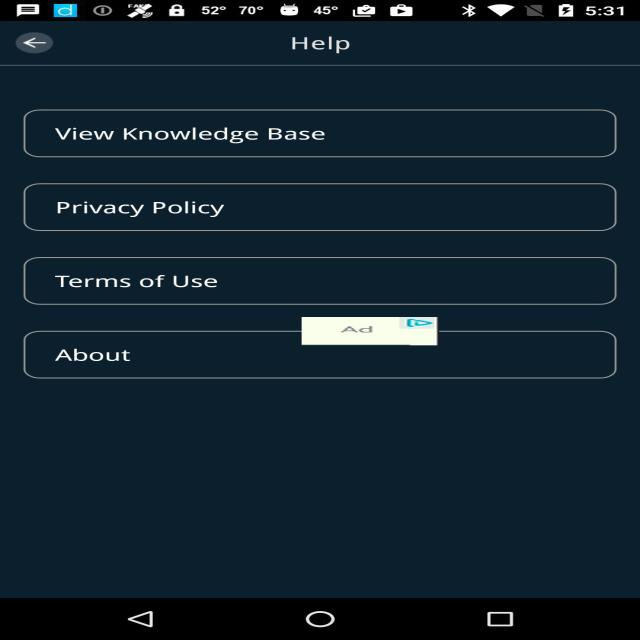sneaking: (302, 317, 439, 345)
